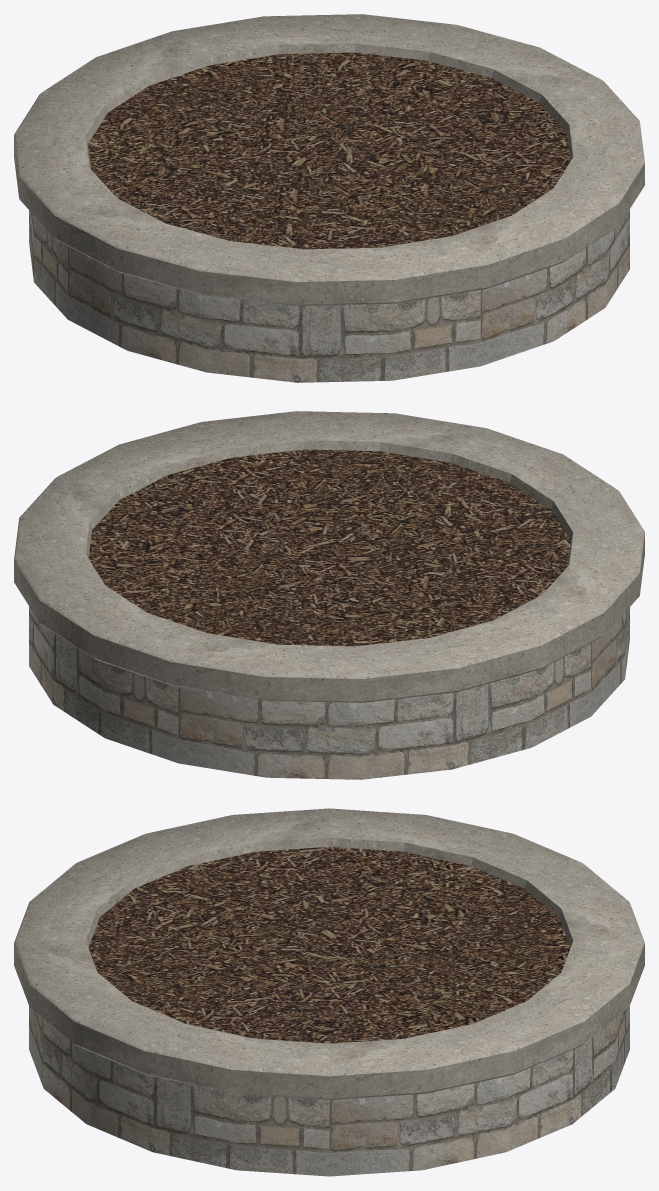
File: flower_bed_e.FBX
3 views of the same model, one above another, from view 1: azimuth 30°, elevation 25°; view 2: azimuth 150°, elevation 25°; view 3: azimuth 270°, elevation 25° (orthographic).
Visible parts, largest first — view 1: flower_bed_e; view 2: flower_bed_e; view 3: flower_bed_e.
Part boxes in pixels (<box>): flower_bed_e: <box>14,14,644,382</box>; flower_bed_e: <box>14,411,644,779</box>; flower_bed_e: <box>14,808,644,1176</box>.
Size of the model in its own units: 210 by 40 by 210.
